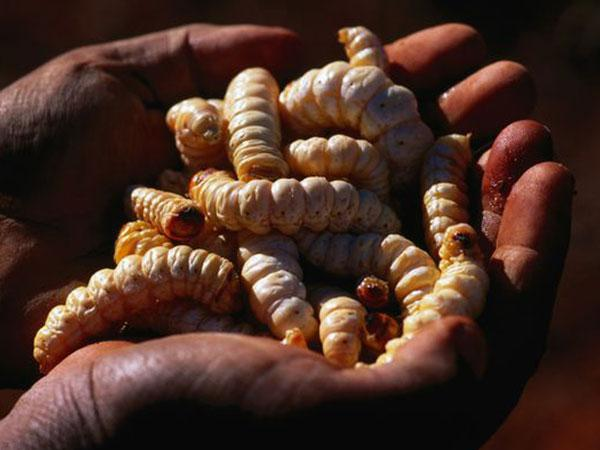grub: (33, 241, 241, 372)
